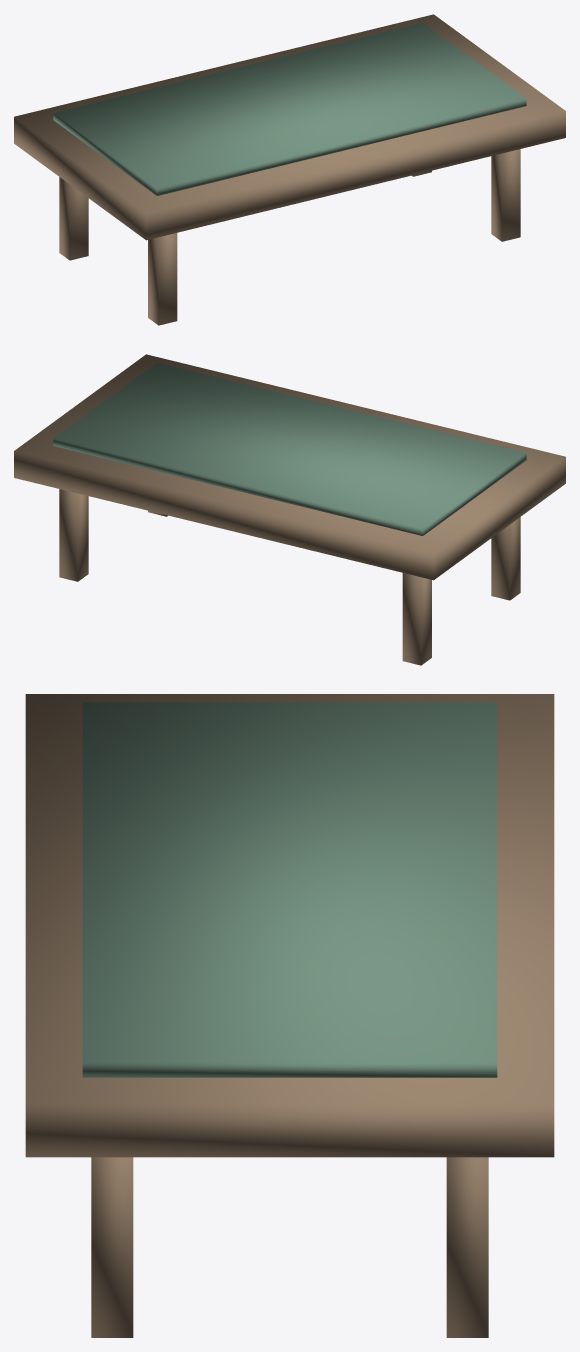
The model's file is pool_table__squat.glb.
The picture shows the model from 3 angles, top to bottom: view 1: azimuth 30°, elevation 25°; view 2: azimuth 150°, elevation 25°; view 3: azimuth 270°, elevation 25°; orthographic projection. The views are drawn at different scales.
Visible parts, largest first — view 1: world; view 2: world; view 3: world.
Part boxes in pixels (x1,y1,x2,y2): world: (14, 14, 565, 325); world: (14, 354, 565, 665); world: (25, 694, 554, 1337).
Bounding box in the file's own units: 2.47 × 0.7854 × 1.35.
